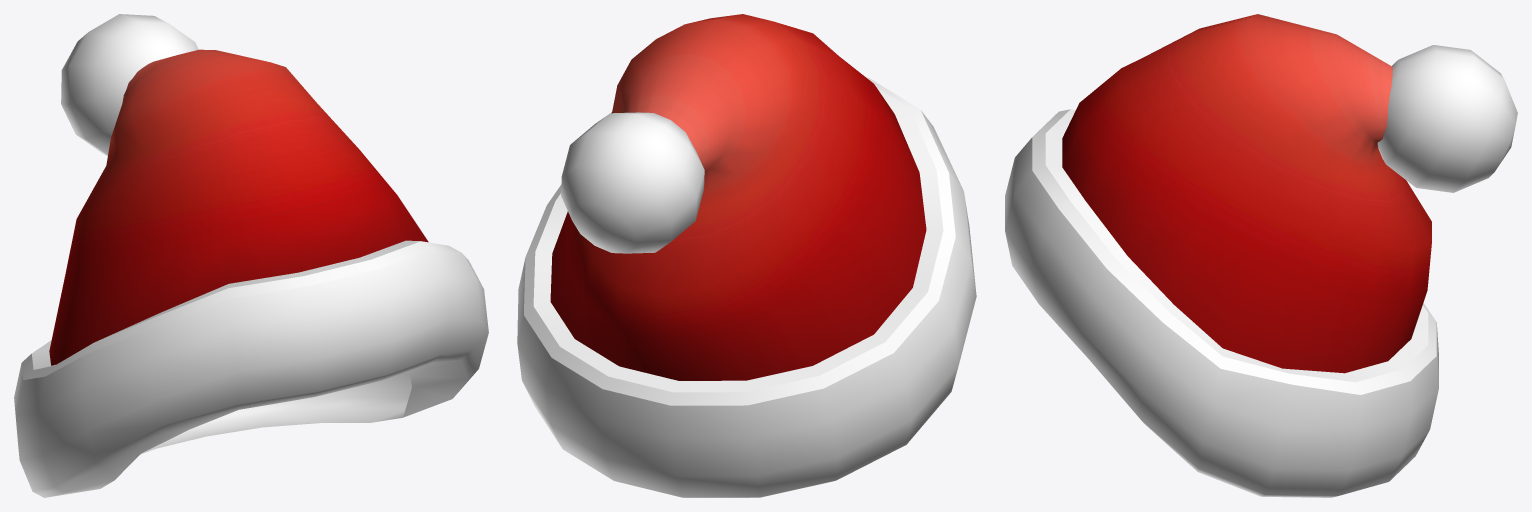
The model's file is Gorro_navidad.fbx.
The picture shows the model from 3 angles, left to right: view 1: azimuth 30°, elevation 25°; view 2: azimuth 150°, elevation 25°; view 3: azimuth 270°, elevation 25°; orthographic projection. The views are drawn at different scales.
Parts seen in each view (by area): view 1: Gorro_navidad; view 2: Gorro_navidad; view 3: Gorro_navidad.
Boxes of the visible parts, <box> form: Gorro_navidad: <box>14,14,488,497</box>; Gorro_navidad: <box>517,14,976,497</box>; Gorro_navidad: <box>1005,14,1517,497</box>.
Size of the model in its own units: 303 by 288 by 320.
